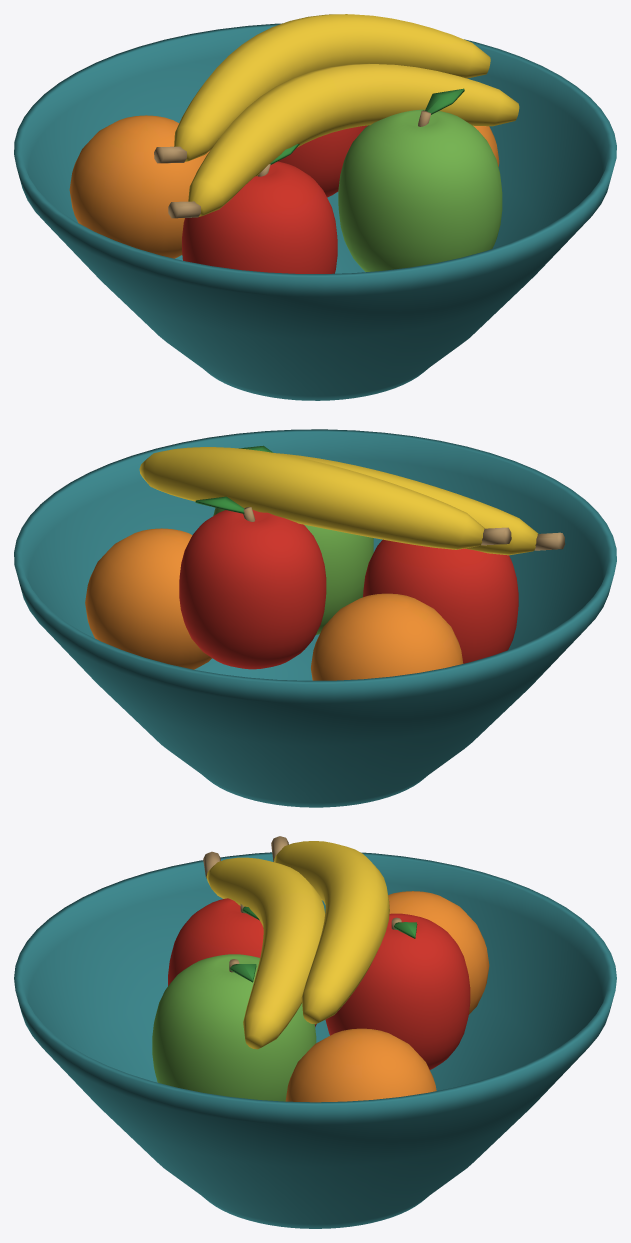
File: universal-fruit-bowl.glb
3 views of the same model, one above another, from view 1: azimuth 30°, elevation 25°; view 2: azimuth 150°, elevation 25°; view 3: azimuth 270°, elevation 25° (orthographic).
Visible parts, largest first — view 1: Open ceramic bowl, Original lobed apple.001, Curved banana, Curved banana.001, Original citrus fruit, Original lobed apple, Original lobed apple.002, Apple leaf.001; view 2: Open ceramic bowl, Original lobed apple.002, Curved banana.001, Original citrus fruit.001, Original lobed apple, Original citrus fruit, Original lobed apple.001, Curved banana; view 3: Open ceramic bowl, Original lobed apple.001, Original lobed apple.002, Curved banana, Curved banana.001, Original citrus fruit.001, Original lobed apple, Original citrus fruit.
Boxes of the visible parts, x1,y1,x2,y2 form: Open ceramic bowl: (14, 23, 616, 400); Original lobed apple.001: (338, 109, 502, 271); Curved banana: (188, 63, 519, 216); Curved banana.001: (174, 14, 490, 161); Original citrus fruit: (69, 115, 210, 258); Original lobed apple: (182, 161, 337, 273); Original lobed apple.002: (278, 125, 368, 197); Apple leaf.001: (425, 88, 464, 114); Open ceramic bowl: (14, 429, 616, 807); Original lobed apple.002: (179, 508, 326, 669); Curved banana.001: (139, 447, 484, 549); Original citrus fruit.001: (85, 528, 211, 669); Original lobed apple: (363, 539, 518, 663); Original citrus fruit: (311, 593, 463, 680); Original lobed apple.001: (213, 507, 373, 634); Curved banana: (275, 453, 538, 555); Open ceramic bowl: (14, 852, 616, 1228); Original lobed apple.001: (152, 954, 316, 1101); Original lobed apple.002: (325, 913, 470, 1069); Curved banana: (206, 857, 325, 1049); Curved banana.001: (274, 841, 389, 1024); Original citrus fruit.001: (285, 1028, 436, 1102); Original lobed apple: (168, 898, 316, 1026); Original citrus fruit: (388, 891, 489, 1014).
Bounding box in the file's own units: 0.26 × 0.1479 × 0.26.
Materials: 7 (7 with a texture image).
